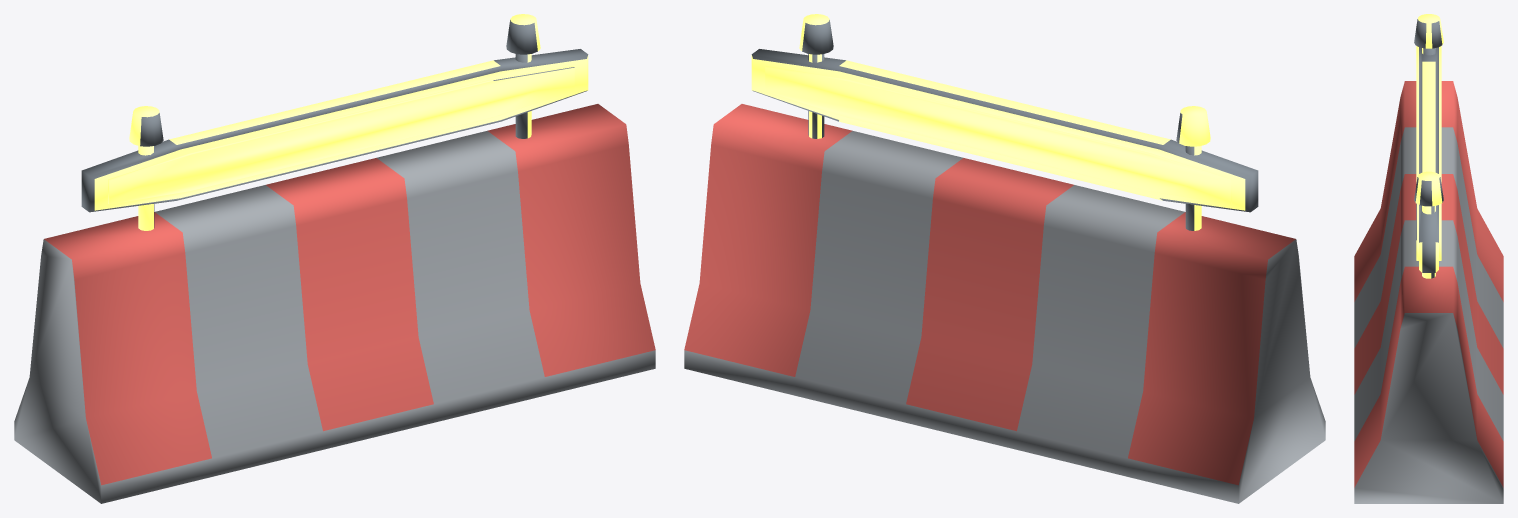
File: barrier.glb
3 views of the same model, side by side, from view 1: azimuth 30°, elevation 25°; view 2: azimuth 150°, elevation 25°; view 3: azimuth 270°, elevation 25° (orthographic). The views are drawn at different scales.
Visible parts, largest first — view 1: barrier; view 2: barrier; view 3: barrier.
Boxes of the visible parts, bbox=[...] form: barrier: bbox=[14, 14, 655, 503]; barrier: bbox=[684, 14, 1325, 503]; barrier: bbox=[1354, 14, 1503, 503].
Size of the model in its own units: 2.5 by 1.46 by 0.68.
